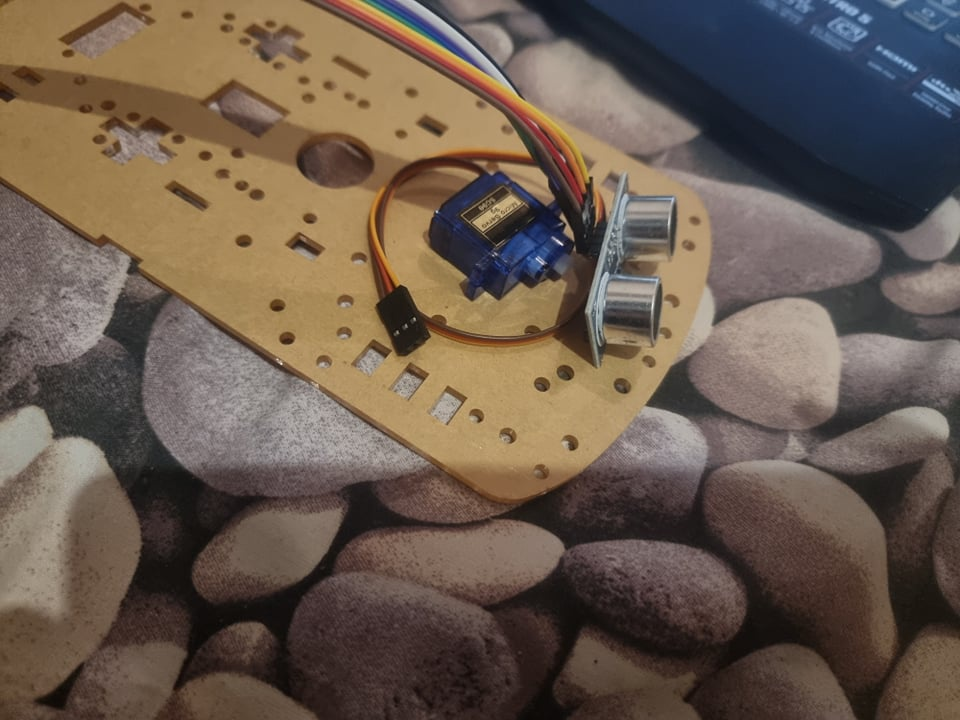SENSOR: (593, 171, 680, 363)
